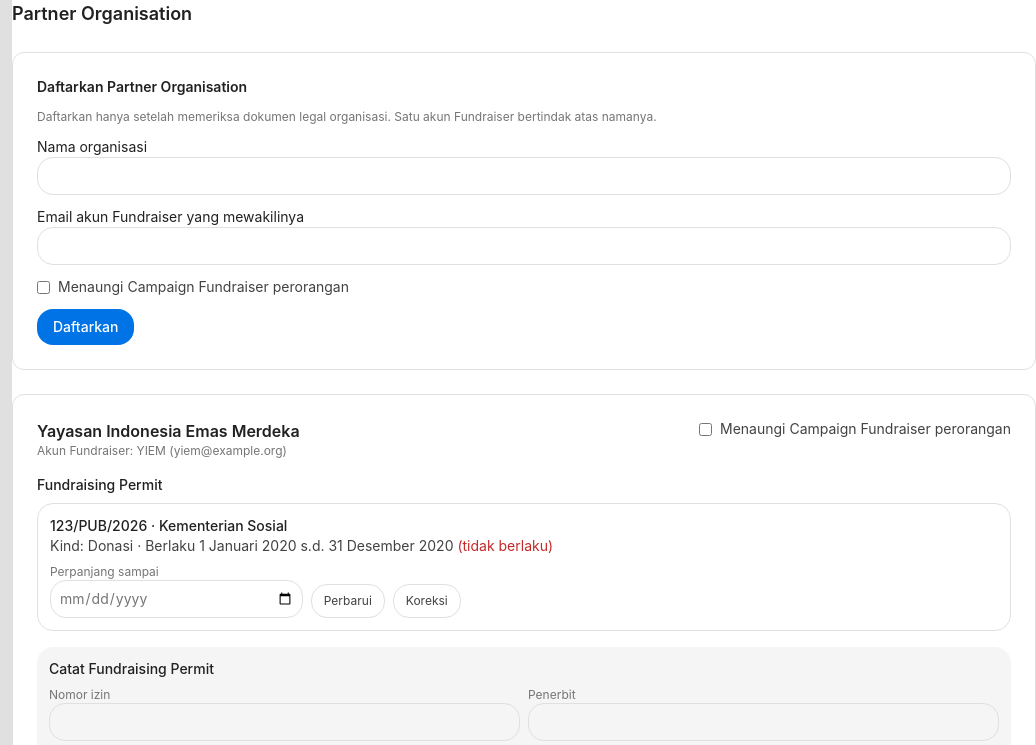
Test: PartnerOrganisationRegister › Koreksi Fundraising Permit (ticket 97) › sends nothing when nothing changed
Expected: the heading "Yayasan Indonesia Emas Merdeka" is shown, [37,419,300,443]
What coordinates should you click on to do the following:
click the button "Koreksi"
I would click on:
 (427, 601)
Its box is [393,584,461,618].
(page scrolled)
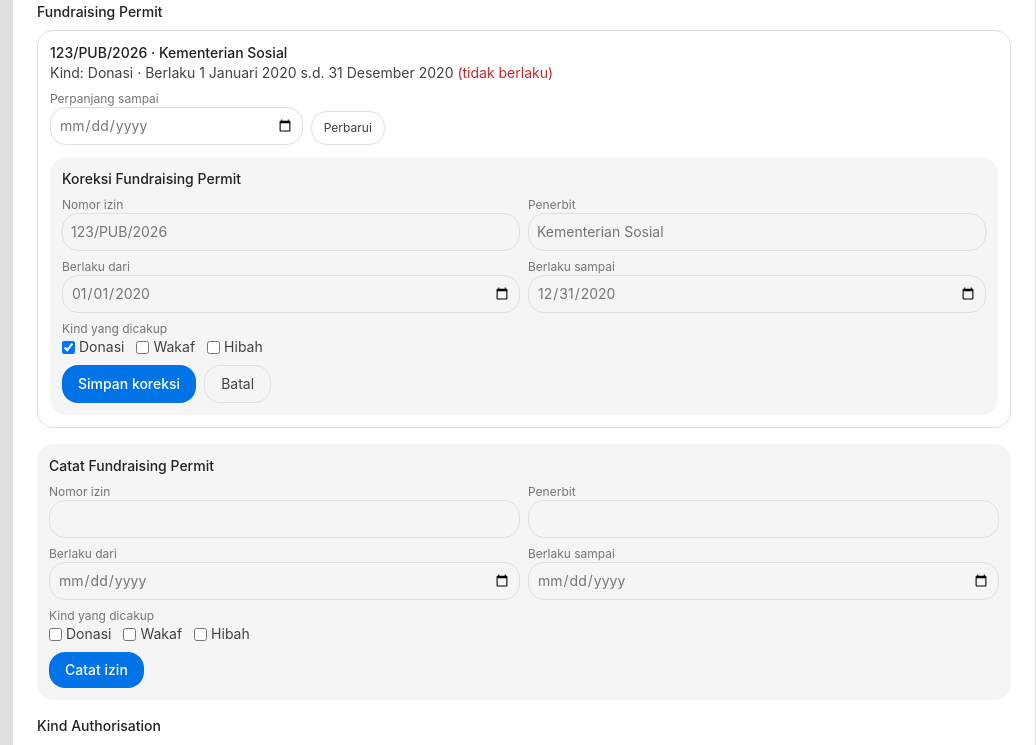
What coordinates should you click on to do the following:
click the button "Simpan koreksi"
I would click on:
 (129, 384)
Its box is [62,365,196,403].
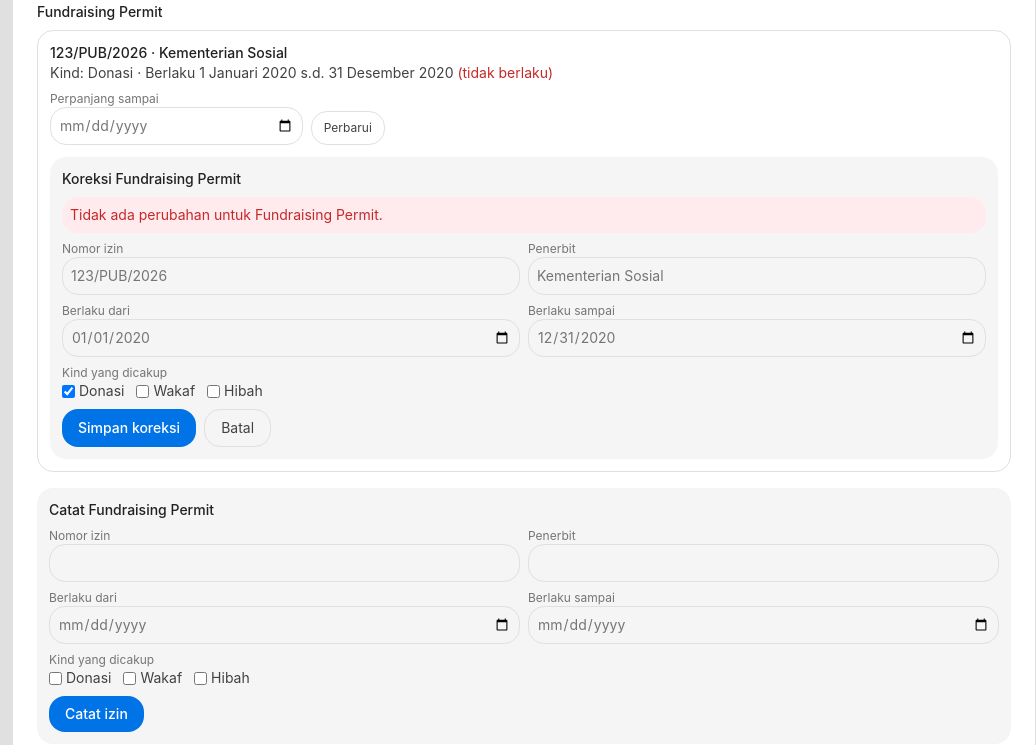
Now the text "Tidak ada perubahan untuk Fundraising Permit." is shown, box [62,197,986,233]
